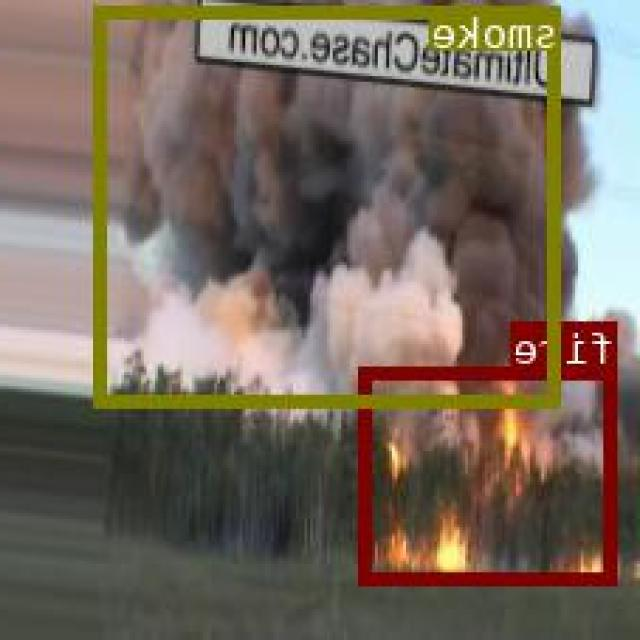fire: (362, 366, 619, 582)
smoke: (98, 5, 561, 406)
